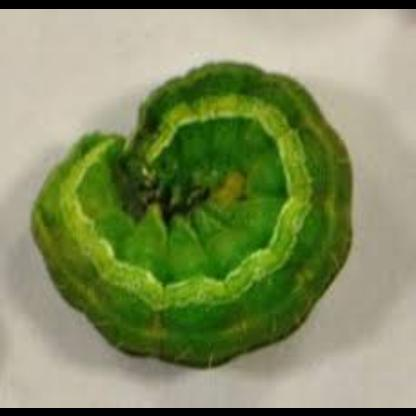oruga: (32, 57, 358, 371)
